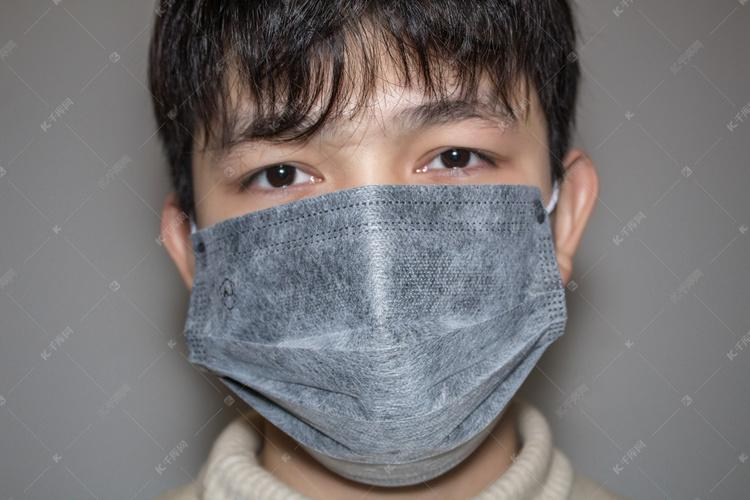mask: (181, 36, 576, 477)
